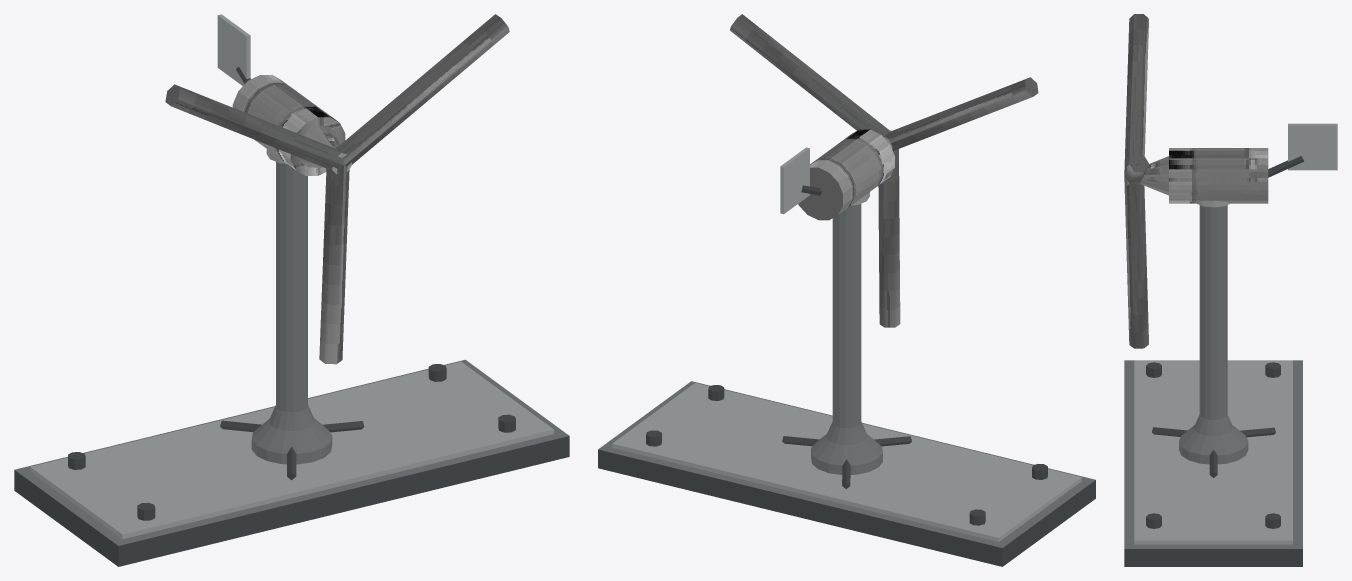
File: Building_WindTurbine.glb
The picture shows the model from 3 angles, left to right: view 1: azimuth 30°, elevation 25°; view 2: azimuth 150°, elevation 25°; view 3: azimuth 270°, elevation 25°; orthographic projection. The views are drawn at different scales.
Visible parts, largest first — view 1: WindTurbine; view 2: WindTurbine; view 3: WindTurbine.
Part boxes in pixels (box(x1,y1,x2,y2)): WindTurbine: box(14, 14, 569, 566); WindTurbine: box(598, 14, 1095, 566); WindTurbine: box(1124, 14, 1337, 566).
Size of the model in its own units: 4.5 by 4.36 by 2.15.
1 material, 1 textured.
